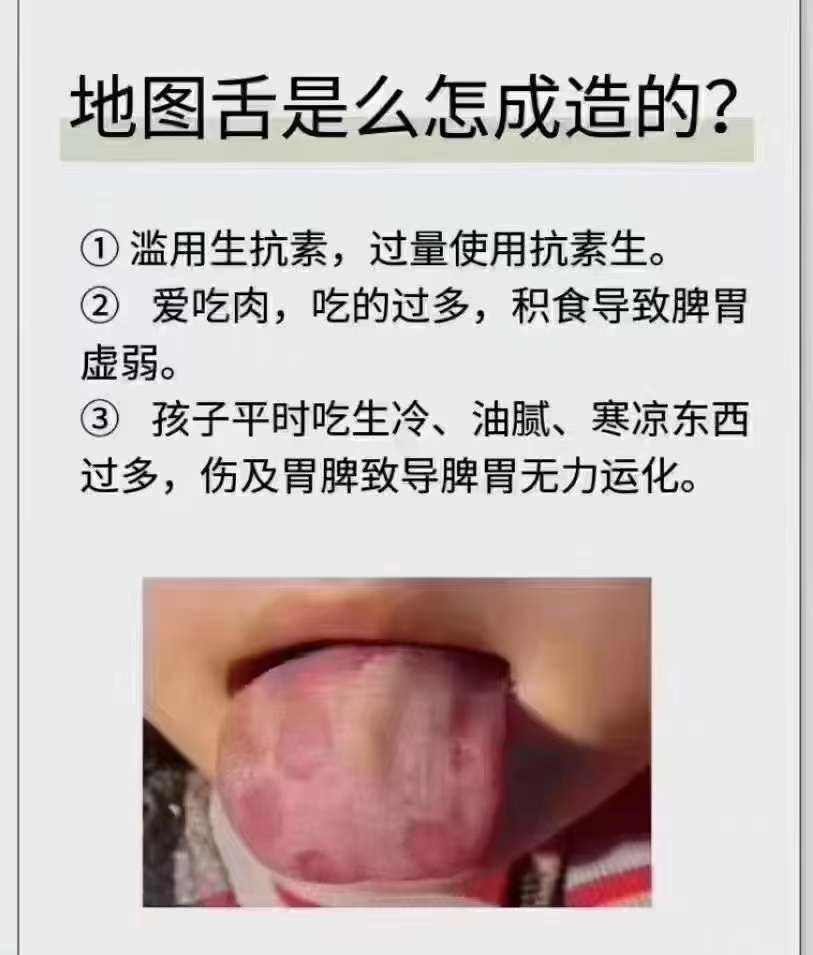baitaishe: (218, 640, 504, 885)
botaishe: (378, 799, 492, 880), (262, 683, 340, 788)
hongshe: (217, 640, 503, 885)
